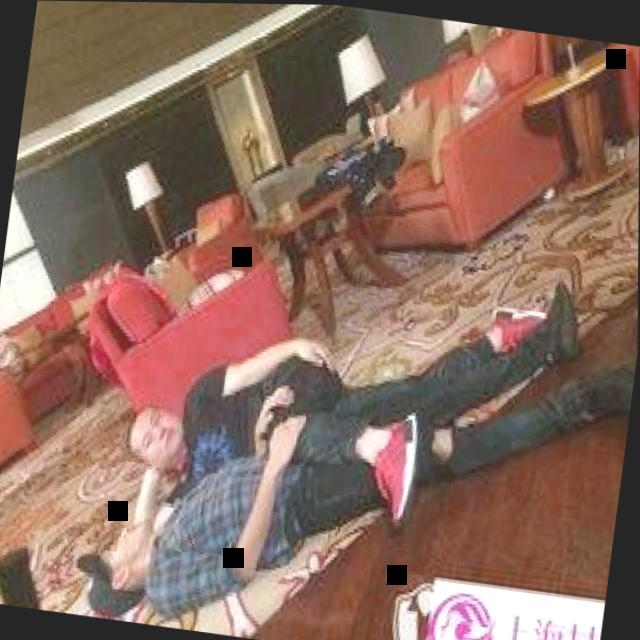Fall-Detected: (51, 213, 639, 640)
